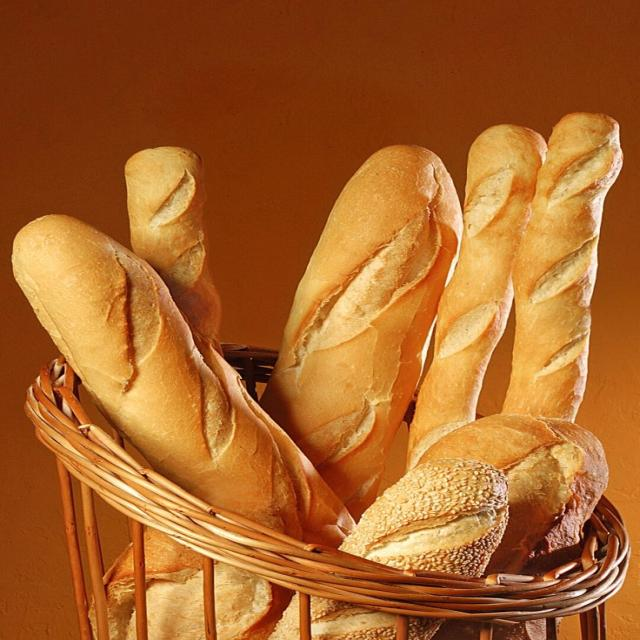bread: (14, 216, 353, 545), (261, 146, 461, 519), (408, 125, 546, 467), (503, 113, 622, 420), (422, 415, 607, 575), (421, 415, 607, 572), (126, 147, 220, 355), (341, 460, 507, 575), (145, 528, 205, 639)
